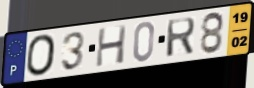0: (132, 20, 156, 63)
3: (61, 31, 86, 71)
8: (198, 11, 226, 57)
H: (95, 23, 129, 69)
O: (26, 33, 58, 78)
R: (165, 16, 197, 59)
